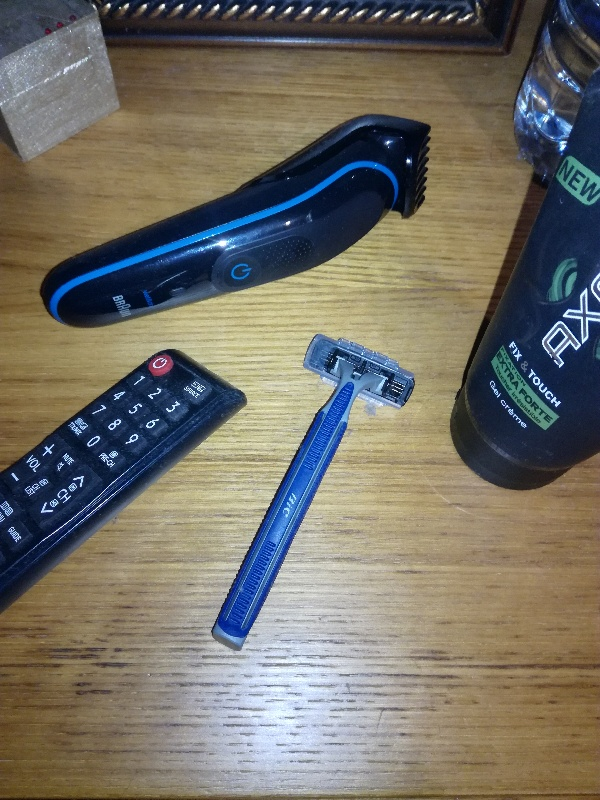beard trimmer: (38, 113, 432, 329)
gilete: (213, 336, 415, 654)
